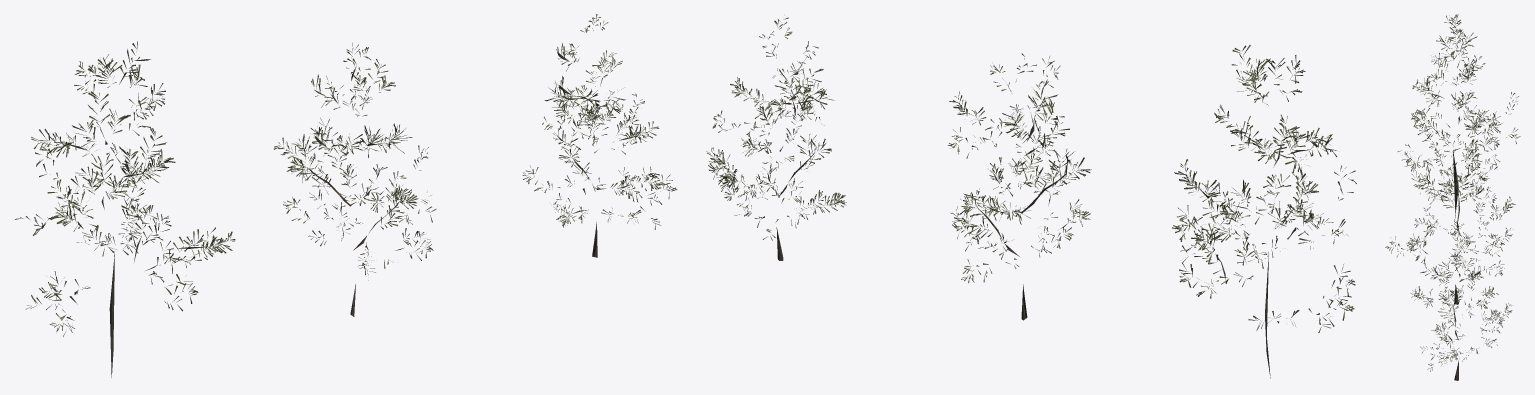
File: pine-sapling-small-lod2.glb
The picture shows the model from 3 angles, left to right: view 1: azimuth 30°, elevation 25°; view 2: azimuth 150°, elevation 25°; view 3: azimuth 270°, elevation 25°; orthographic projection. The views are drawn at different scales.
Parts seen in each view (by area): view 1: pine_sapling_small_a, pine_sapling_small_b, pine_sapling_small_c; view 2: pine_sapling_small_a, pine_sapling_small_b, pine_sapling_small_c; view 3: pine_sapling_small_a, pine_sapling_small_b, pine_sapling_small_c.
Part boxes in pixels (x1,y1,x2,y2): pine_sapling_small_a: (15,41,235,377); pine_sapling_small_b: (274,43,436,316); pine_sapling_small_c: (522,14,677,257); pine_sapling_small_a: (1172,45,1356,378); pine_sapling_small_b: (948,53,1091,320); pine_sapling_small_c: (706,17,846,260); pine_sapling_small_a: (1397,14,1520,226); pine_sapling_small_b: (1385,134,1515,304); pine_sapling_small_c: (1410,224,1512,380).
Bounding box in the file's own units: 2.61 × 1.3 × 0.751.
Materials: 2 (2 with a texture image).
